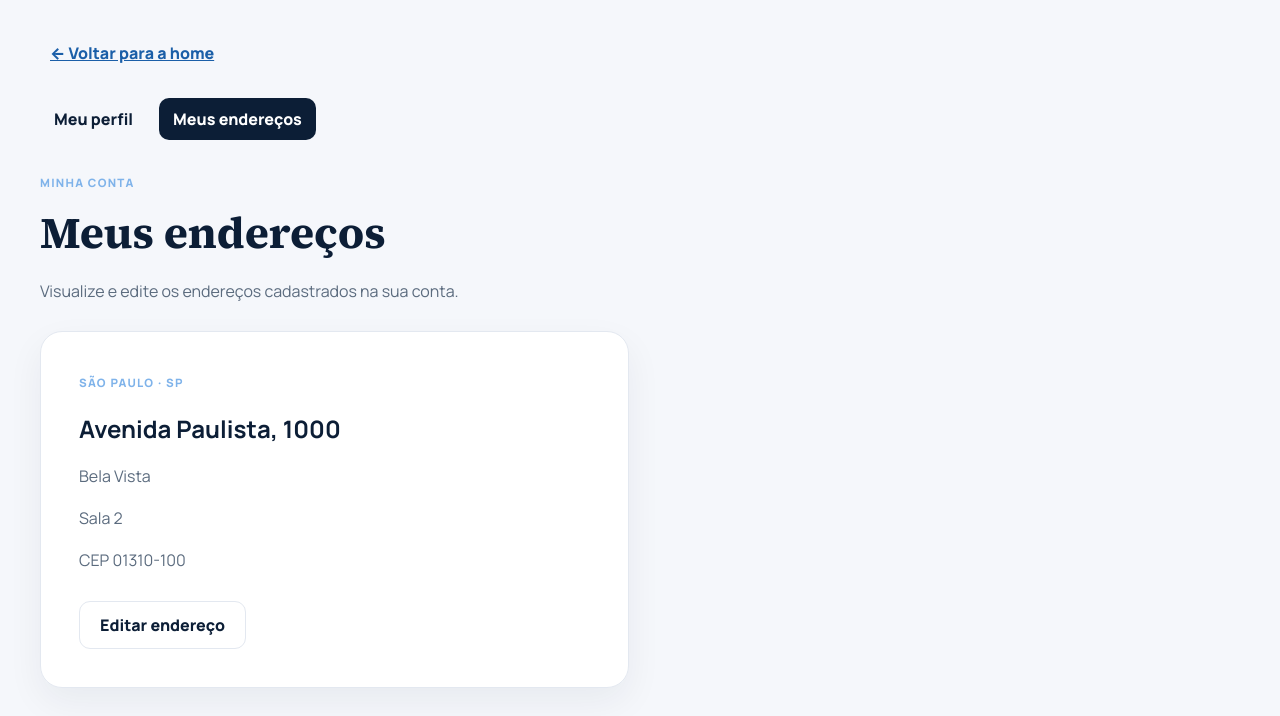
Scenario: edita o endereço existente com PATCH autenticado e permite remover complemento
This screenshot has width=1280, height=716.
Click the button with aria-label "Editar endereço:" at (162,625), box [79, 601, 246, 649]
(page scrolled)
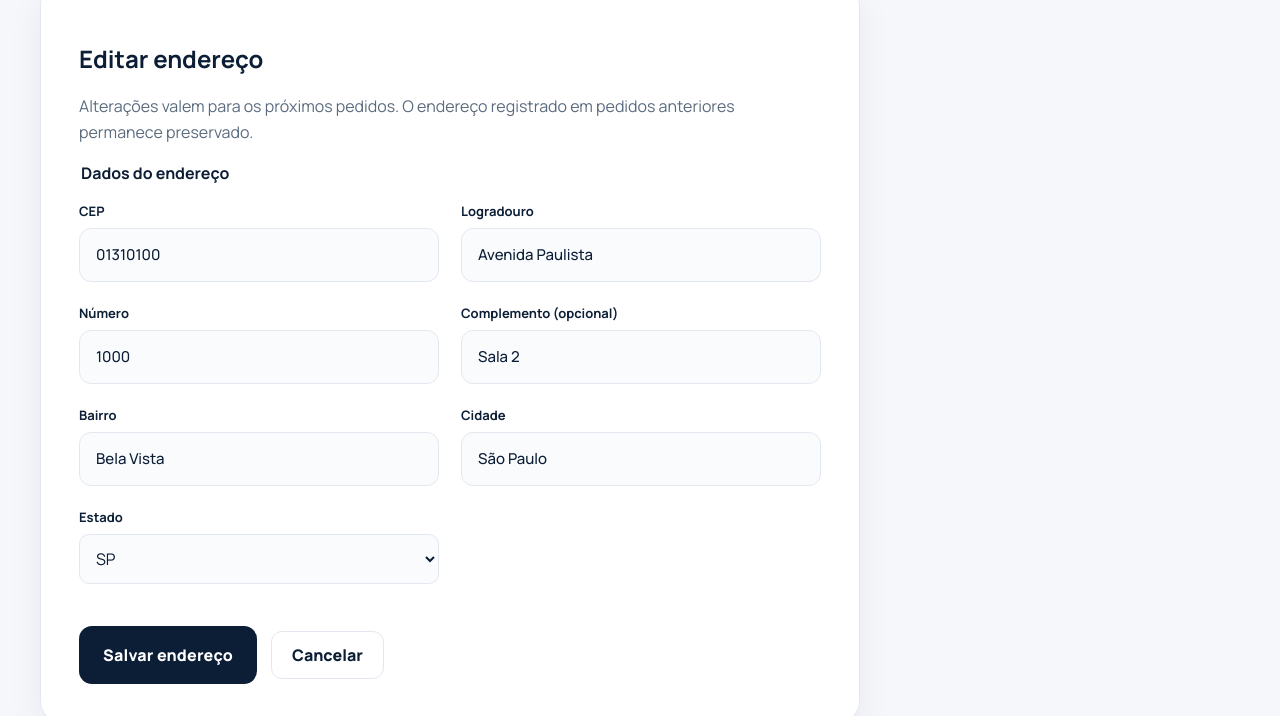
Result: the field labelled "Logradouro" holds "Avenida Paulista" at [478, 229, 804, 281]
Replace the text in the field labelled "Número" with "2000" at (259,357), box [96, 331, 422, 383]
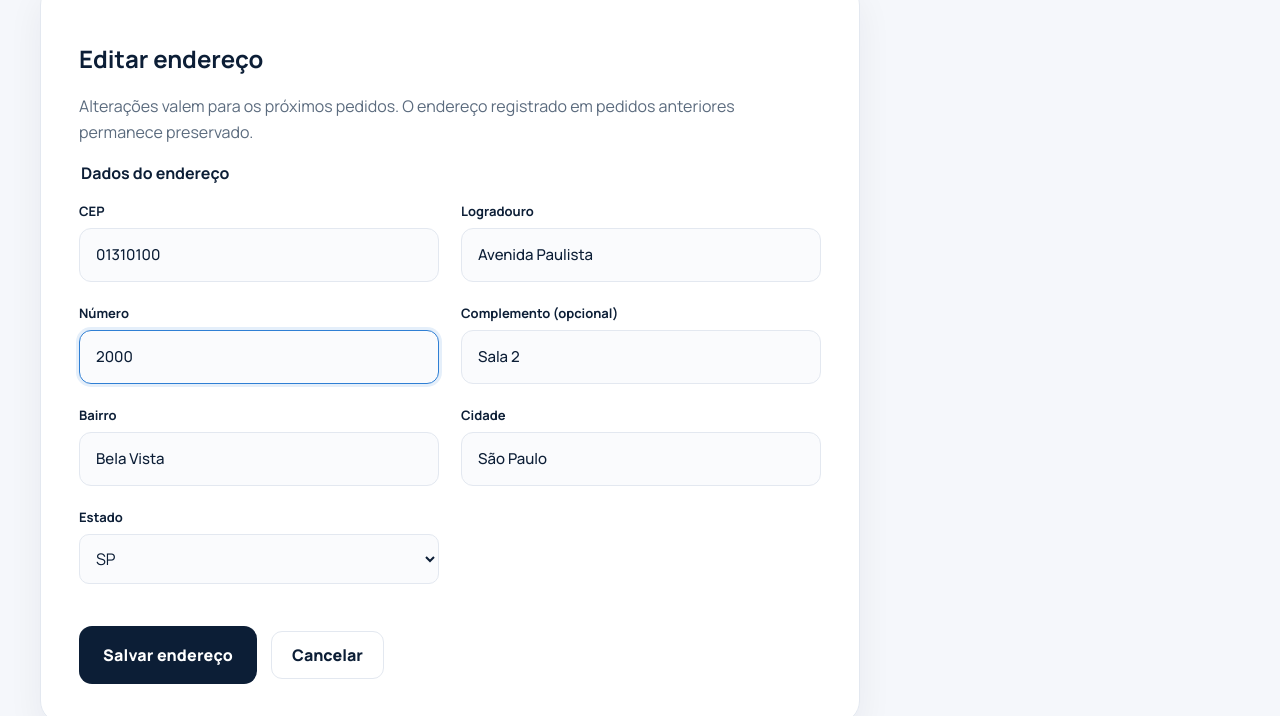
Clear the field labelled "Complemento (opcional)" at (641,357), box [478, 331, 804, 383]
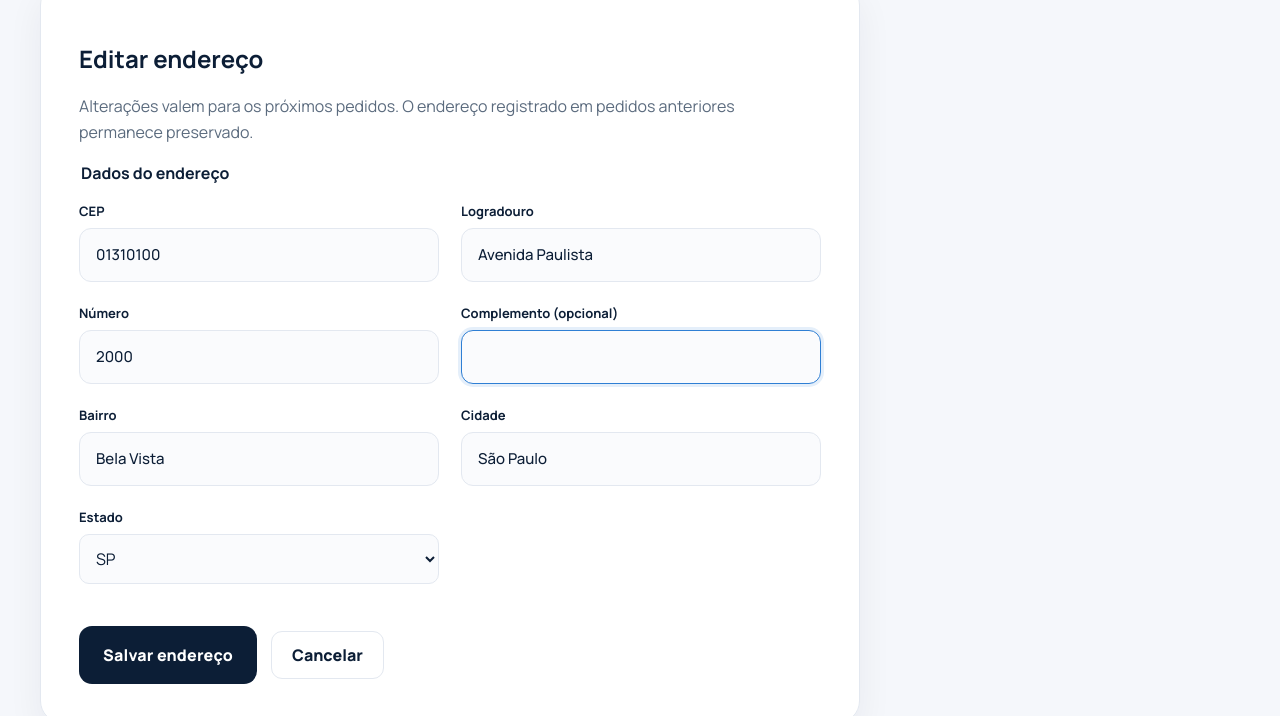
Click the button "Salvar endereço" at (168,655), box [79, 626, 257, 684]
(page scrolled)
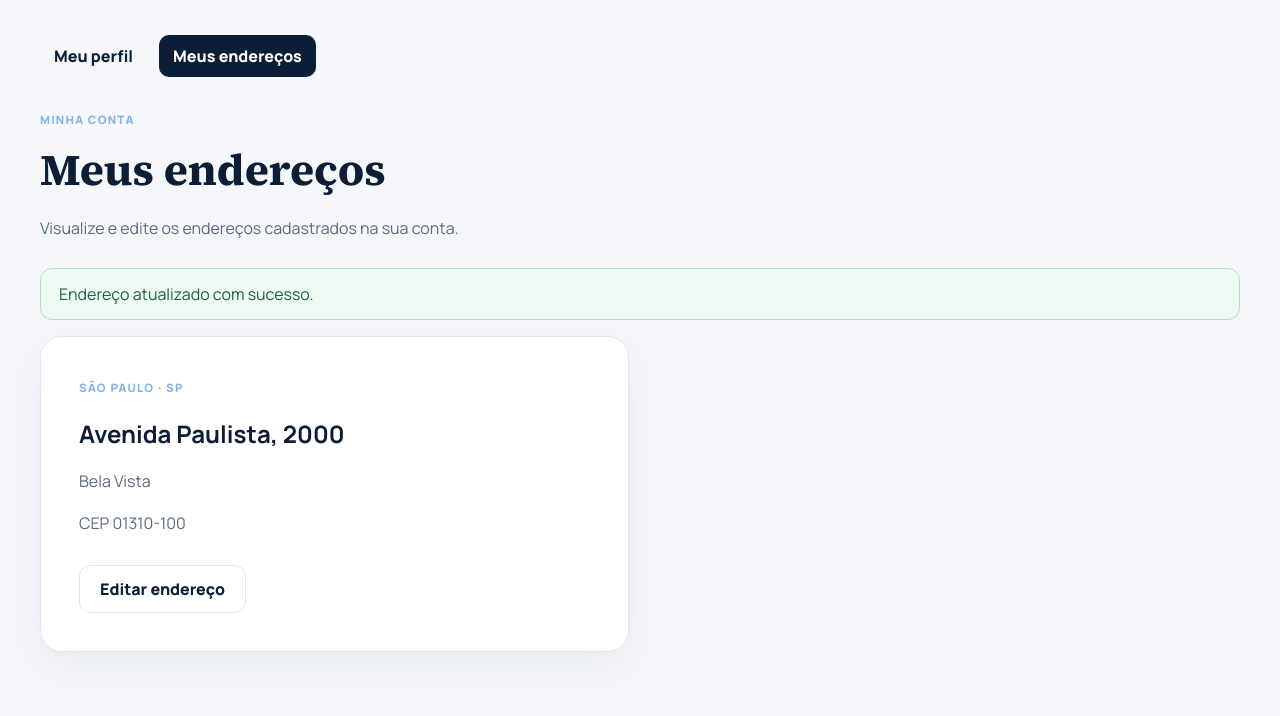
Result: the text "Endereço atualizado com sucesso." is shown at [40, 268, 1240, 320]
Result: the heading "Avenida Paulista, 2000" is shown at [79, 416, 344, 450]
